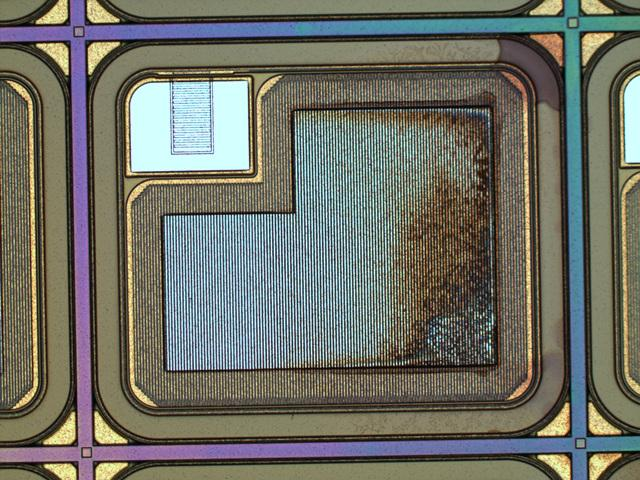SEZ BURNT: (276, 28, 568, 383)
